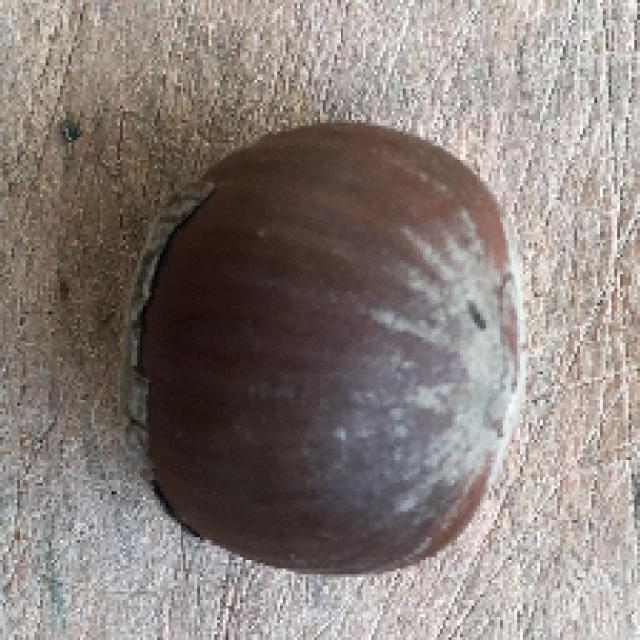damagedHazelnut: (128, 112, 534, 584)
